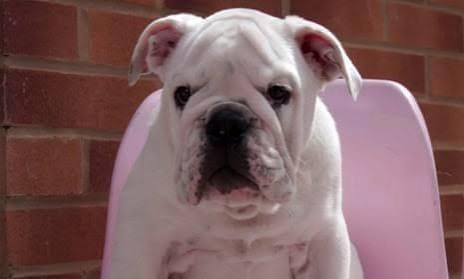puppy-dog: (100, 5, 365, 279)
